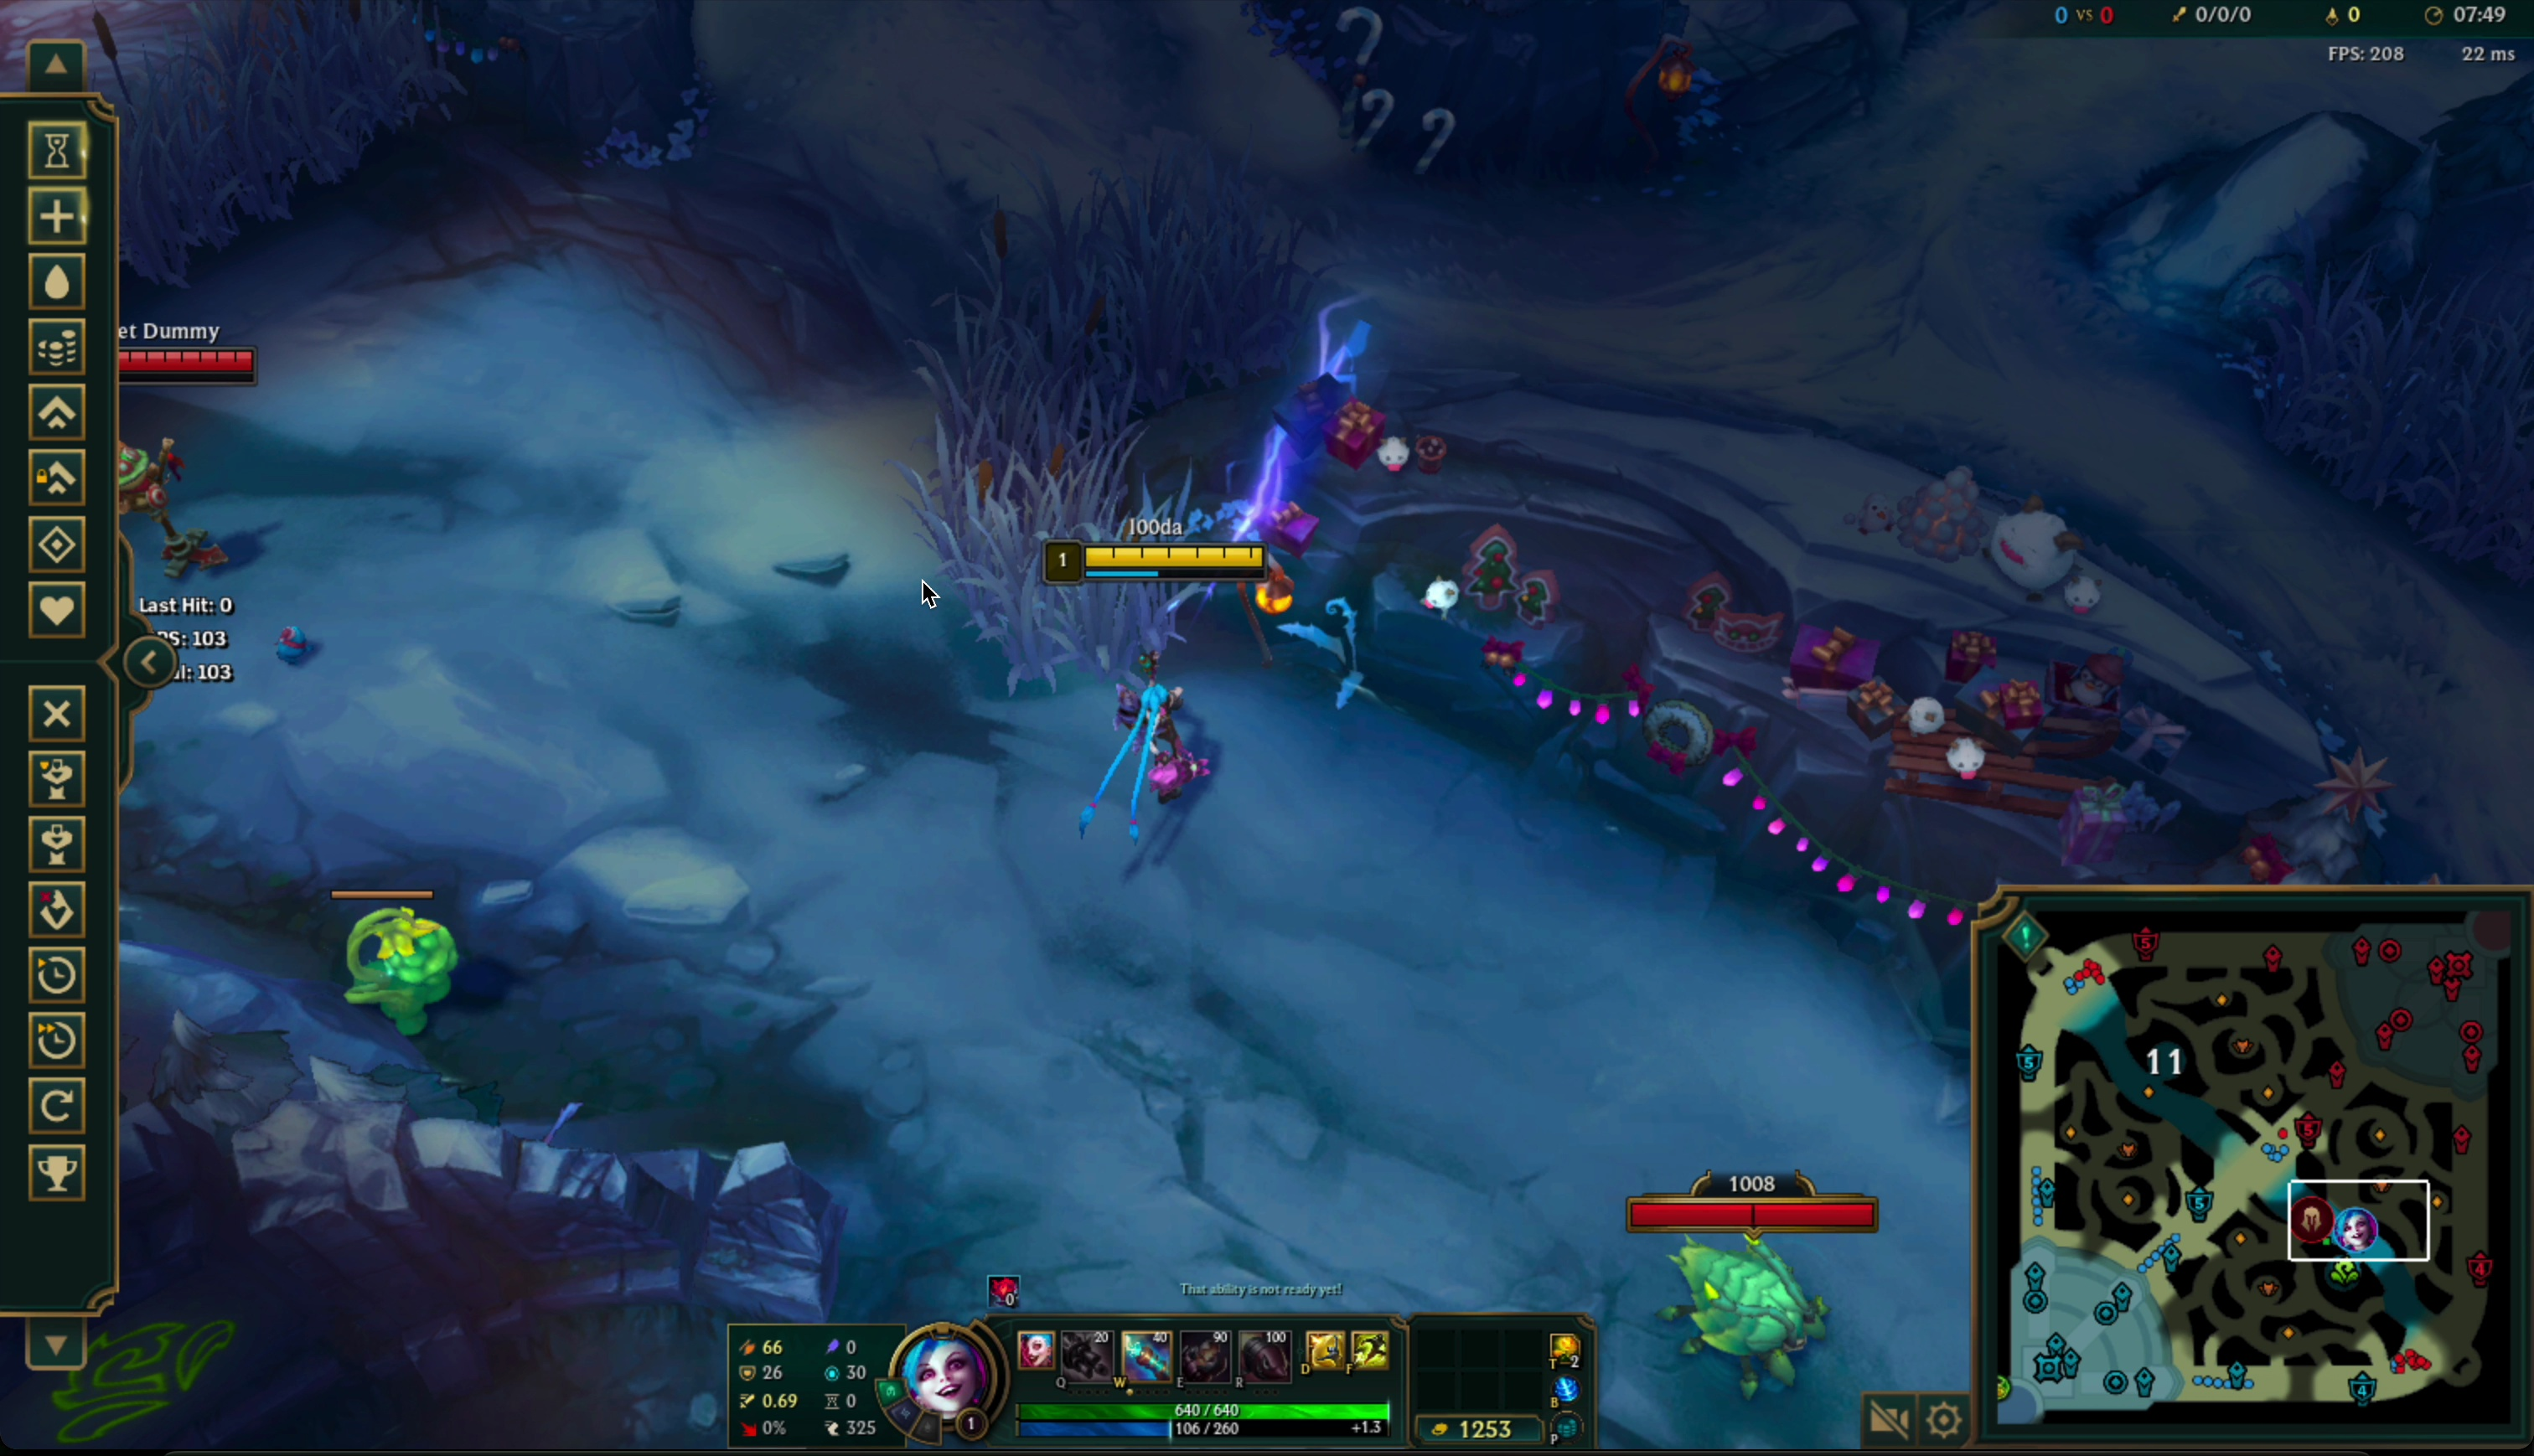JINX_W_PROJECTILE: (997, 280, 1410, 878)
